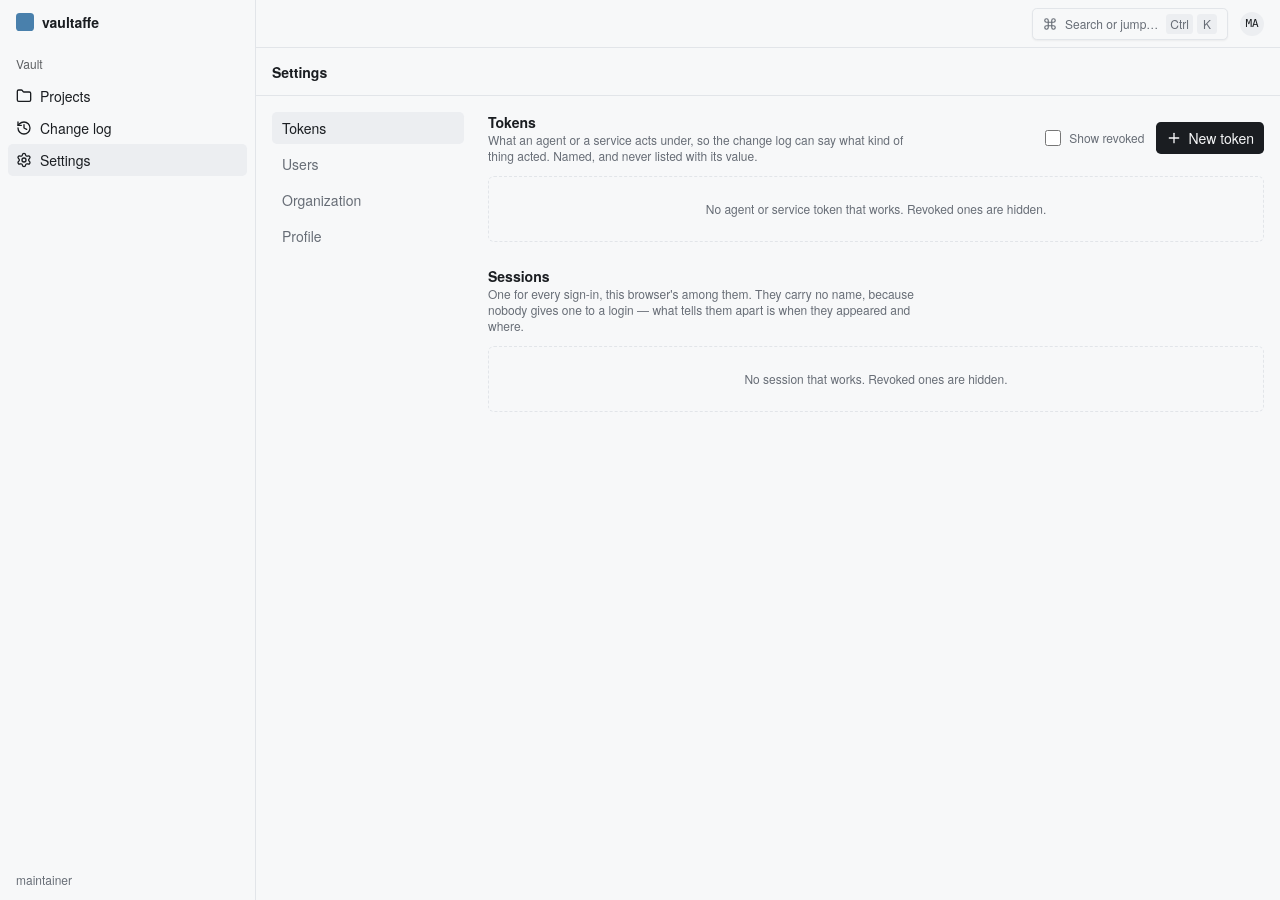
the tokens › hands the value over once and says that this is the once
The image size is (1280, 900).
Step 1. Click the button "New token" → [1210, 138], box [1156,122,1264,154]
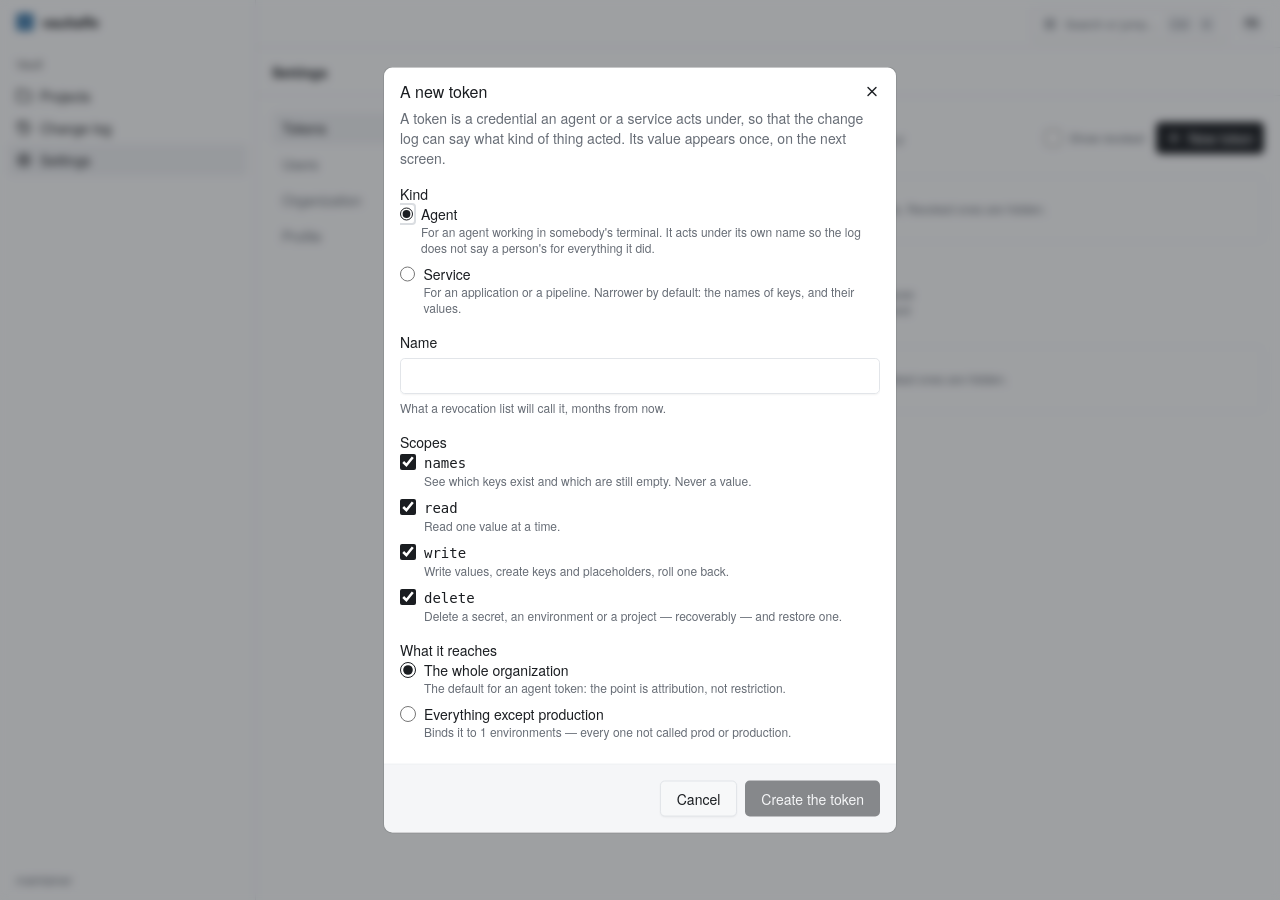
Step 2. Type "the agent in my terminal" into the field labelled "Name" → [640, 376], box [400,358,880,394]
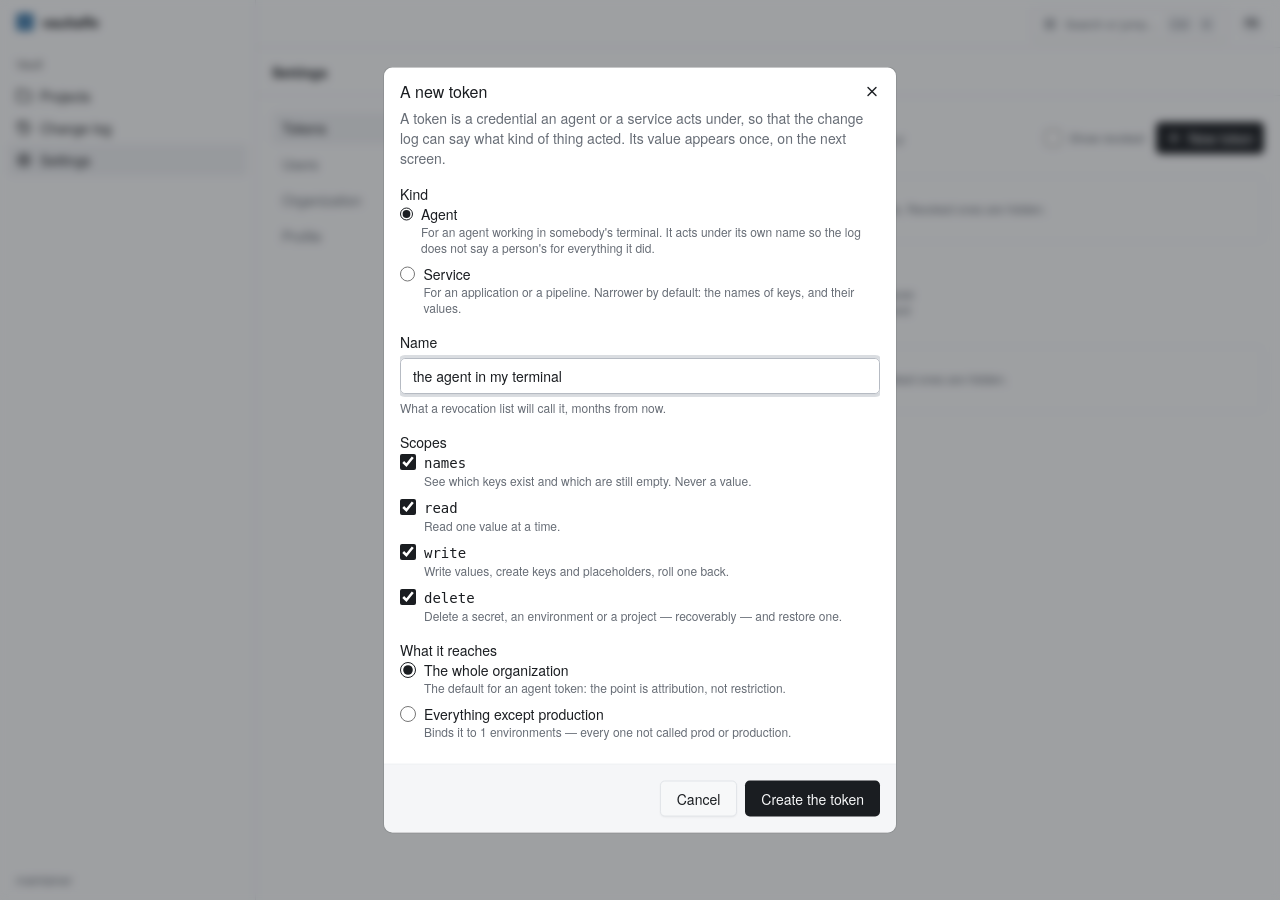
Step 3. Click the button "Create the token" → [813, 798], box [745,780,880,816]
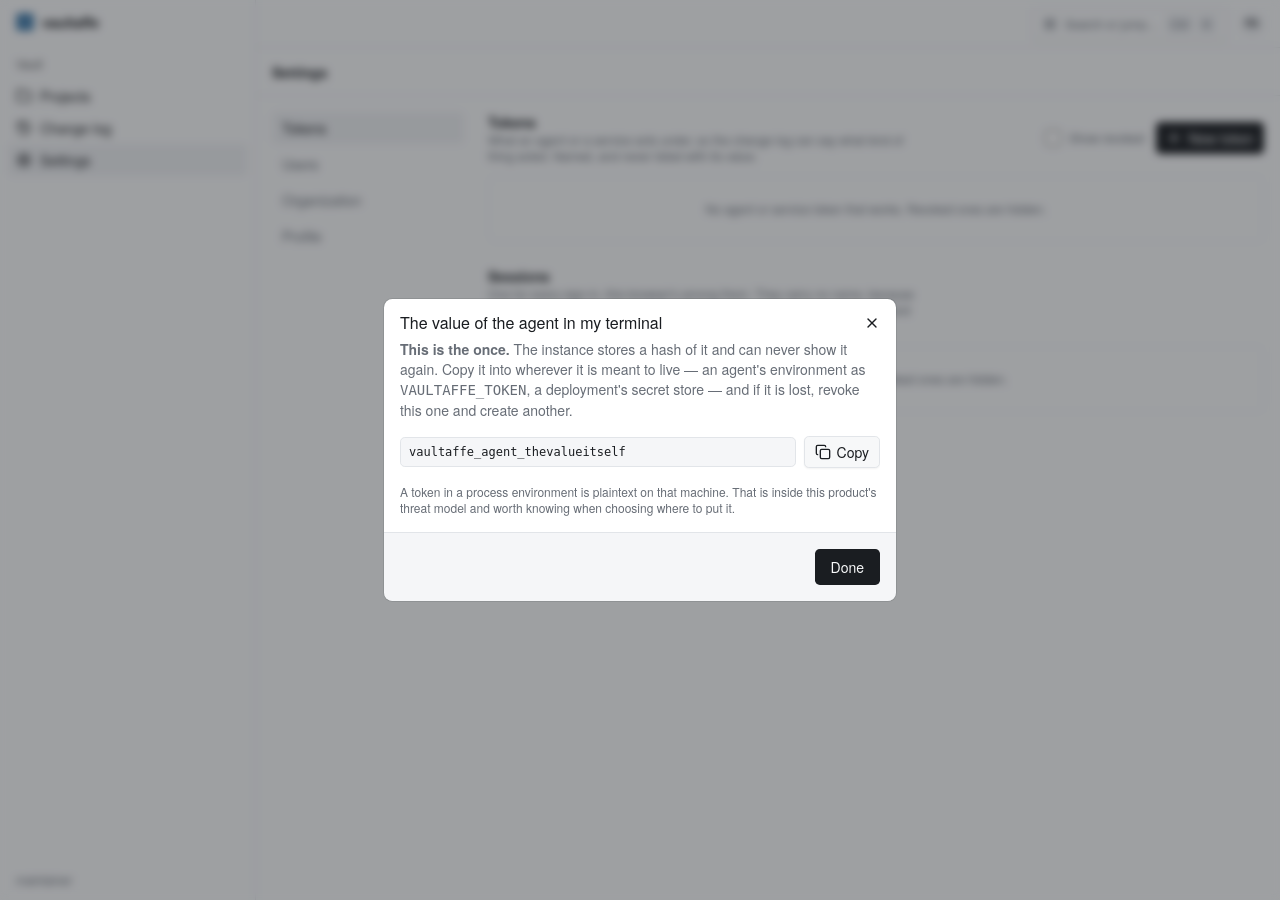
Expected: the text "This is the once." is shown, [400,339,510,359]
Expected: the text "vaultaffe_agent_thevalueitself" is shown, [400,437,796,467]
